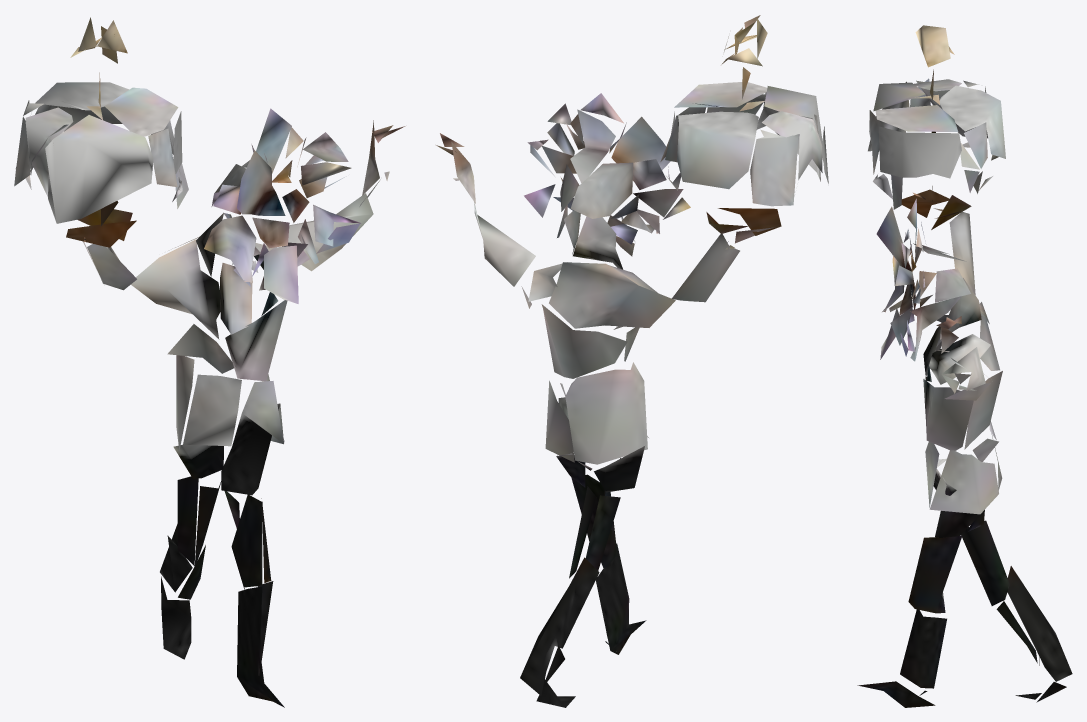
The model's file is cast_maitre_far.glb.
3 renders of one model, left to right at view 1: azimuth 30°, elevation 25°; view 2: azimuth 150°, elevation 25°; view 3: azimuth 270°, elevation 25°, orthographic. The views are drawn at different scales.
Parts seen in each view (by area): view 1: tripo_node_05c4fbca-02c4-4de5-b7a4-4f7adf9fef5e; view 2: tripo_node_05c4fbca-02c4-4de5-b7a4-4f7adf9fef5e; view 3: tripo_node_05c4fbca-02c4-4de5-b7a4-4f7adf9fef5e.
Boxes of the visible parts, x1=… form: tripo_node_05c4fbca-02c4-4de5-b7a4-4f7adf9fef5e: x1=14, y1=17, x2=405, y2=707; tripo_node_05c4fbca-02c4-4de5-b7a4-4f7adf9fef5e: x1=436, y1=15, x2=828, y2=707; tripo_node_05c4fbca-02c4-4de5-b7a4-4f7adf9fef5e: x1=857, y1=25, x2=1072, y2=707.
Bounding box in the file's own units: 0.5586 × 0.9992 × 0.3111.
1 material, 1 textured.
